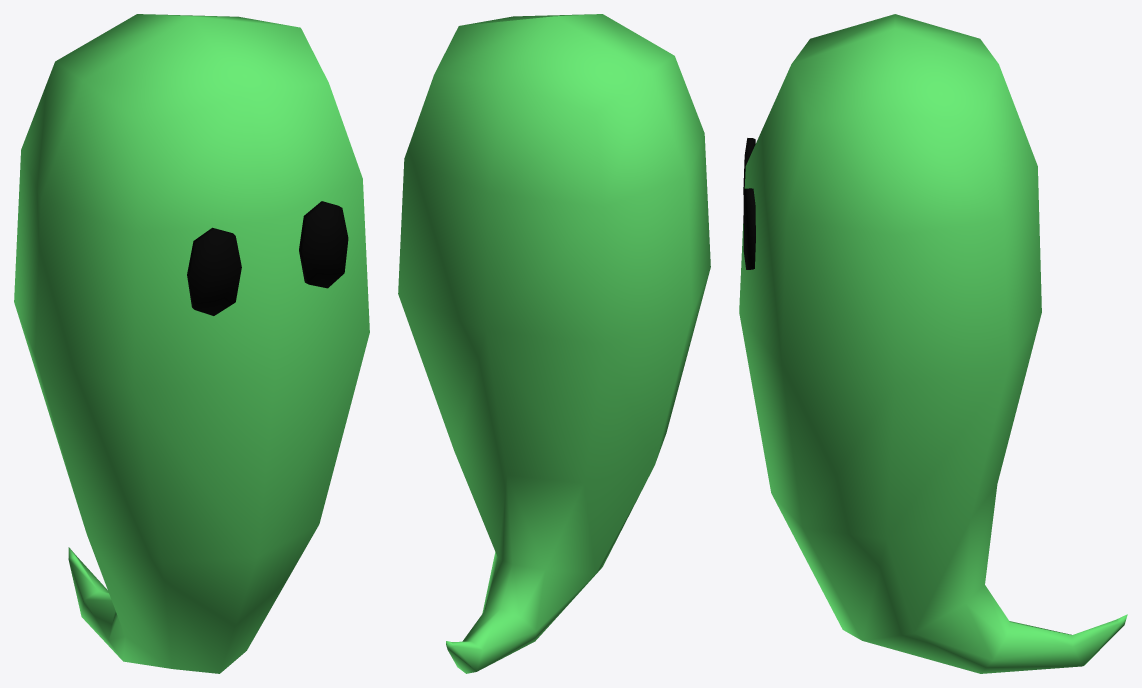
File: Spectre.fbx
3 renders of one model, left to right at view 1: azimuth 30°, elevation 25°; view 2: azimuth 150°, elevation 25°; view 3: azimuth 270°, elevation 25°, orthographic. The views are drawn at different scales.
Parts seen in each view (by area): view 1: Cube; view 2: Cube; view 3: Cube.
Boxes of the visible parts, x1=… form: Cube: x1=14, y1=14, x2=369, y2=673; Cube: x1=398, y1=14, x2=710, y2=673; Cube: x1=739, y1=14, x2=1127, y2=673.
Bounding box in the file's own units: 76.62 × 159 × 87.11.
